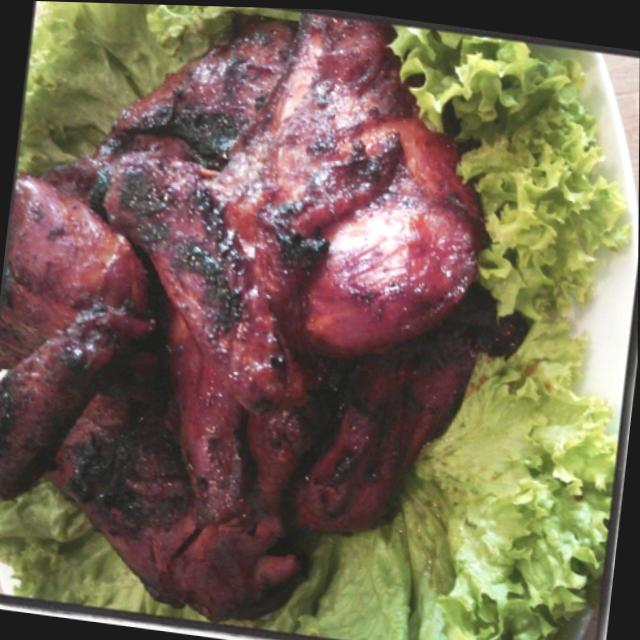鸡肉料理 含炸鸡: (0, 0, 605, 624)
